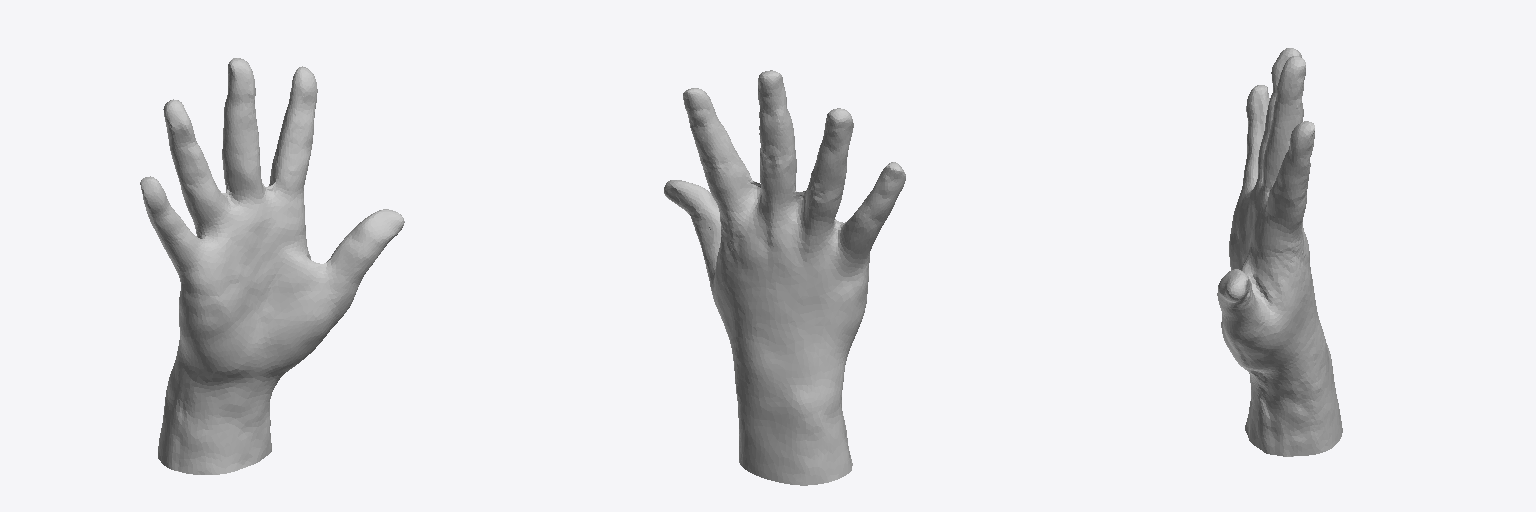
The model's file is measurable_clean_tmp.obj.
The picture shows the model from 3 angles: view 1: azimuth 30°, elevation 25°; view 2: azimuth 150°, elevation 25°; view 3: azimuth 270°, elevation 25°; orthographic projection.
Size of the model in its own units: 152 by 225 by 66.13.